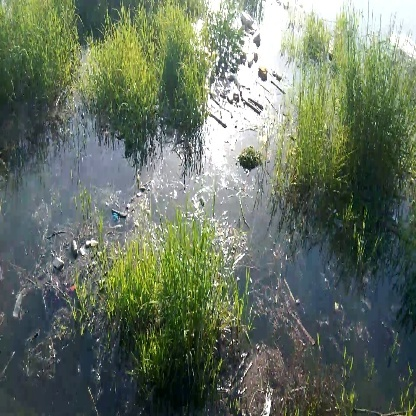grass: (106, 246, 220, 387)
